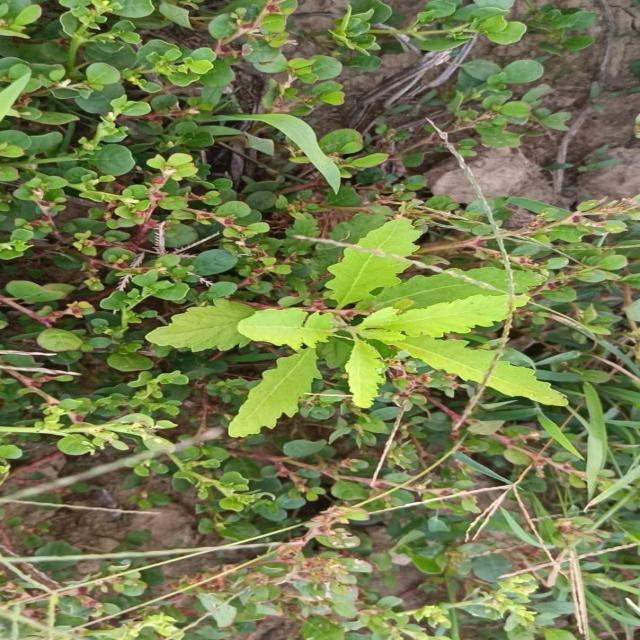weed: (146, 219, 568, 437)
